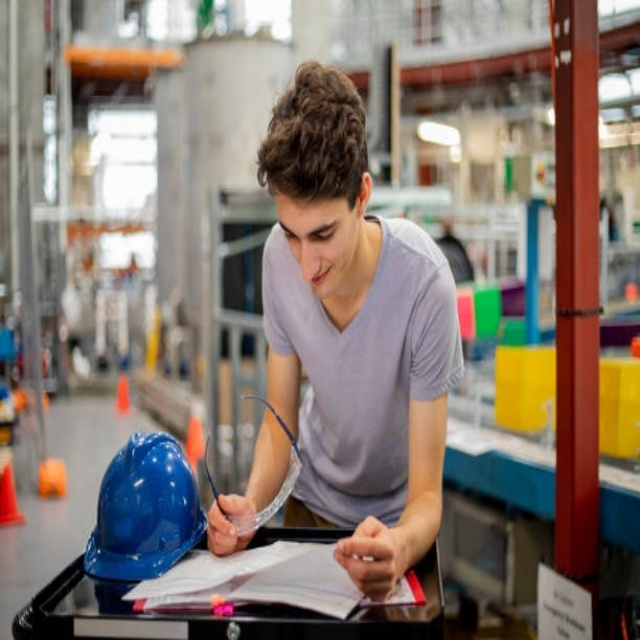Sin_gafas: (277, 201, 344, 249)
Sin_guantes: (333, 521, 401, 602), (205, 489, 257, 557)
Sin_mascara: (301, 260, 349, 300)
